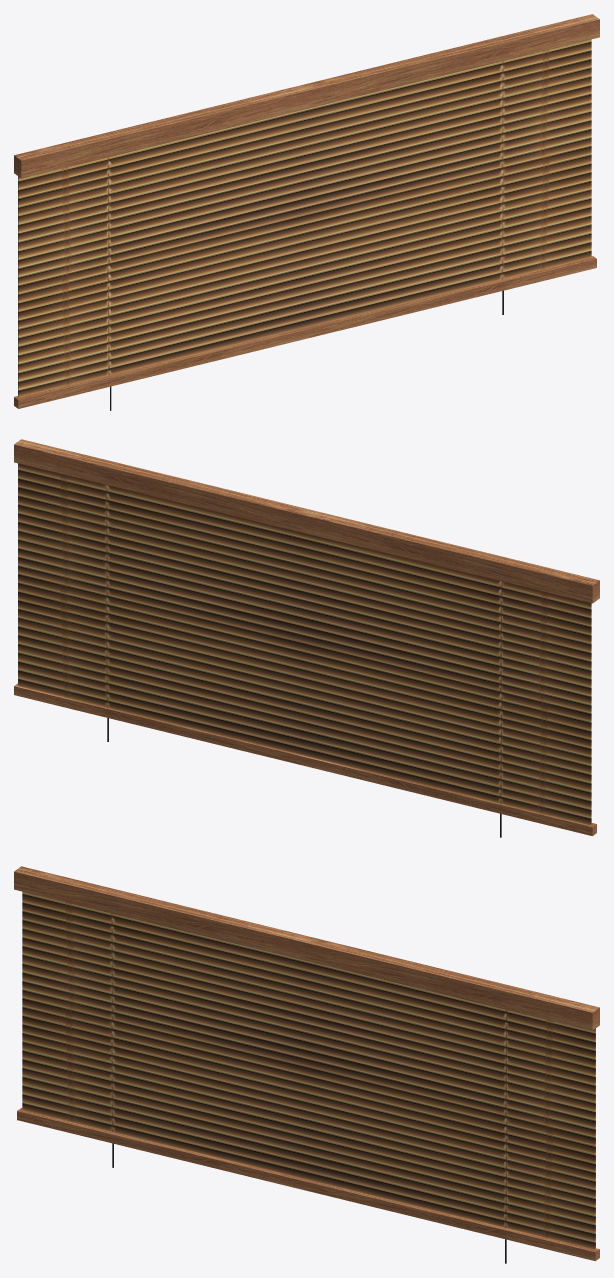
Rendered from window screen brown2.FBX.
3 views of the same model, one above another, from view 1: azimuth 30°, elevation 25°; view 2: azimuth 150°, elevation 25°; view 3: azimuth 330°, elevation 25° (orthographic).
Visible parts, largest first — view 1: window screen brown2; view 2: window screen brown2; view 3: window screen brown2.
Part boxes in pixels (x1,y1,x2,y2): window screen brown2: [14, 14, 599, 410]; window screen brown2: [14, 439, 599, 837]; window screen brown2: [14, 866, 599, 1263].
Size of the model in its own units: 122 by 2.69 by 55.75.
1 material, 1 textured.
